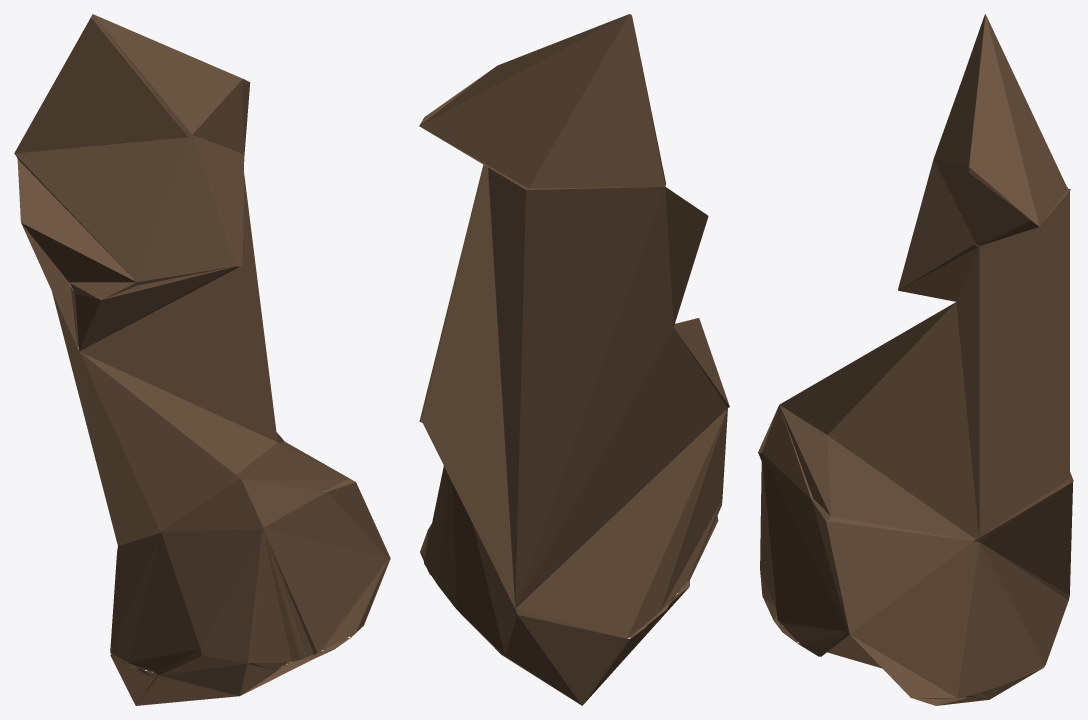
Rendered from maya-statue-big.lod2.glb.
3 renders of one model, left to right at view 1: azimuth 30°, elevation 25°; view 2: azimuth 150°, elevation 25°; view 3: azimuth 270°, elevation 25°, orthographic. The views are drawn at different scales.
Visible parts, largest first — view 1: Object_4; view 2: Object_4; view 3: Object_4.
Boxes of the visible parts, x1=… form: Object_4: x1=14, y1=14, x2=390, y2=705; Object_4: x1=419, y1=14, x2=729, y2=705; Object_4: x1=758, y1=14, x2=1073, y2=705.
Bounding box in the file's own units: 1.94 × 4.1 × 1.77.
